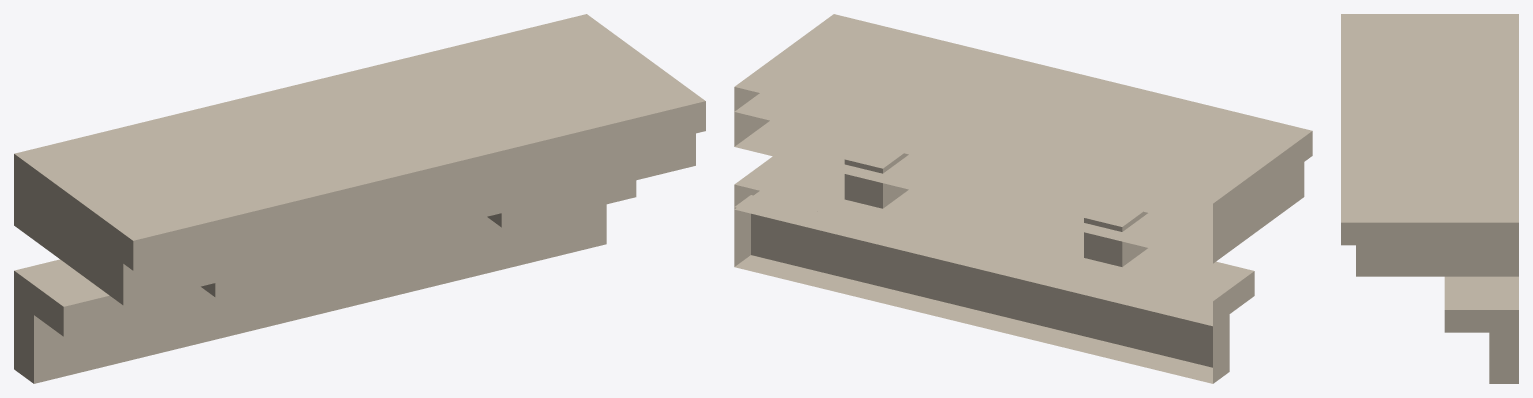
File: CorniceSegment.glb
3 renders of one model, left to right at view 1: azimuth 30°, elevation 25°; view 2: azimuth 150°, elevation 25°; view 3: azimuth 270°, elevation 25°, orthographic. The views are drawn at different scales.
Parts seen in each view (by area): view 1: CorniceSegment_cube.016, CorniceSegment_cube.011, CorniceSegment_cube.015, CorniceSegment_cube.012, CorniceSegment_cube.013, CorniceSegment_cube.014; view 2: CorniceSegment_cube.016, CorniceSegment_cube.011, CorniceSegment_cube.015, CorniceSegment_cube.012, CorniceSegment_cube.014, CorniceSegment_cube.013; view 3: CorniceSegment_cube.016, CorniceSegment_cube.015, CorniceSegment_cube.012, CorniceSegment_cube.011.
Part boxes in pixels (<box>): CorniceSegment_cube.016: <box>14,14,705,270</box>; CorniceSegment_cube.011: <box>14,204,606,383</box>; CorniceSegment_cube.015: <box>14,133,695,305</box>; CorniceSegment_cube.012: <box>14,180,636,336</box>; CorniceSegment_cube.013: <box>201,272,261,297</box>; CorniceSegment_cube.014: <box>487,202,547,227</box>; CorniceSegment_cube.016: <box>734,14,1312,228</box>; CorniceSegment_cube.011: <box>734,195,1229,383</box>; CorniceSegment_cube.015: <box>734,93,1304,263</box>; CorniceSegment_cube.012: <box>734,156,1254,326</box>; CorniceSegment_cube.014: <box>844,144,908,208</box>; CorniceSegment_cube.013: <box>1084,202,1147,266</box>; CorniceSegment_cube.016: <box>1341,14,1518,245</box>; CorniceSegment_cube.015: <box>1356,245,1518,276</box>; CorniceSegment_cube.012: <box>1444,276,1518,332</box>; CorniceSegment_cube.011: <box>1489,330,1518,383</box>.
Bounding box in the file's own units: 2 × 0.72 × 0.72.
